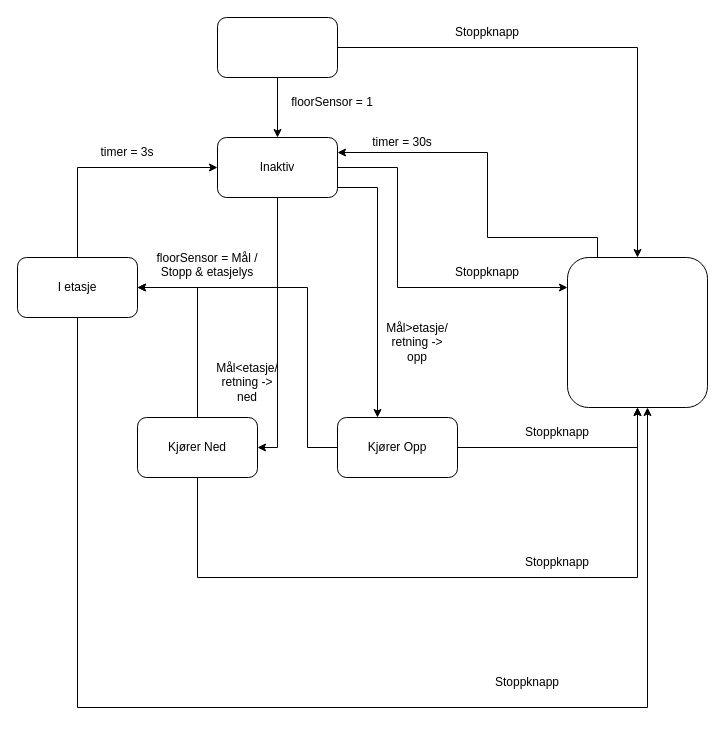
Some shapes in this 725 by 733 pixel diagram are drawn without their labels. Here are the shapes that lost their labels. From the top down, the centre of each, then its label:
At (x=277, y=47): "Oppstart".
At (x=637, y=332): "Stopp enter / stopp, stopplys".
